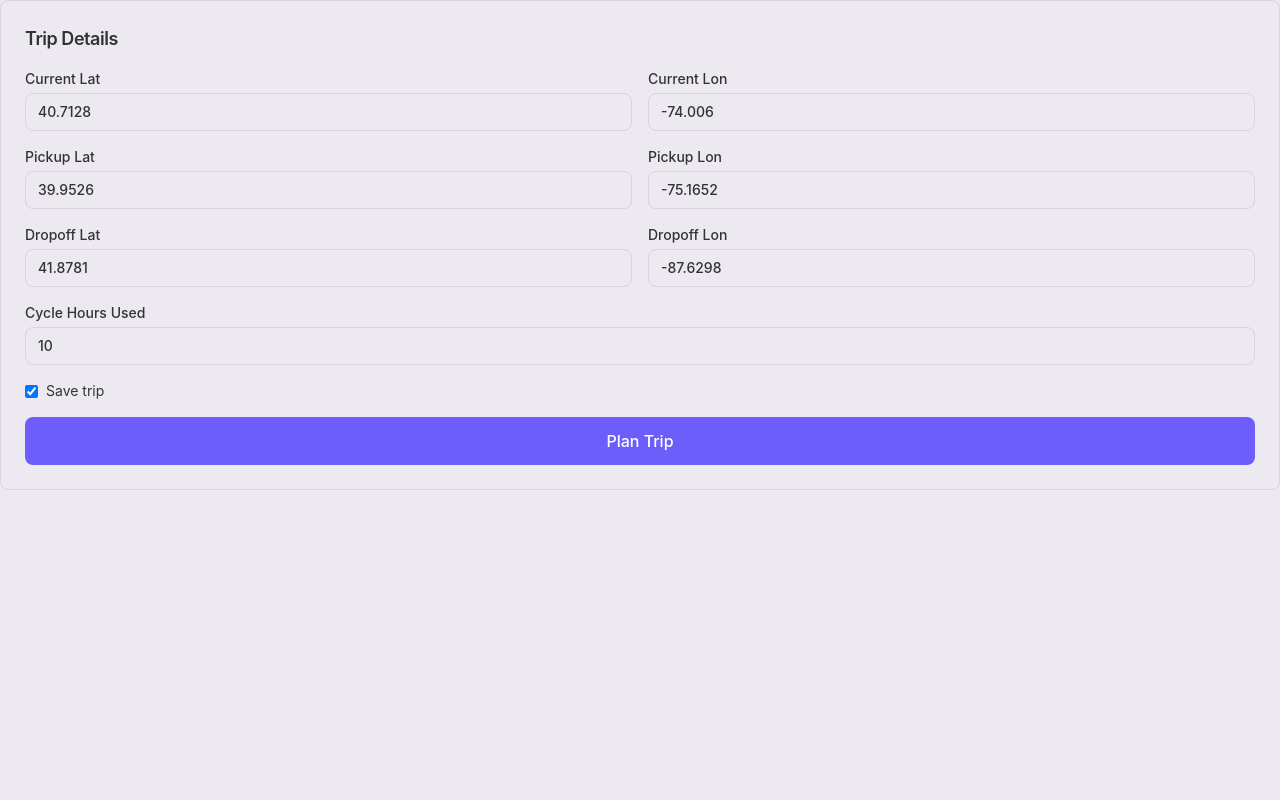
Test: TripForm › displays error message on API failure
Click the button "Plan Trip".
click(640, 441)  # box top-left (25, 417), bottom-right (1255, 465)
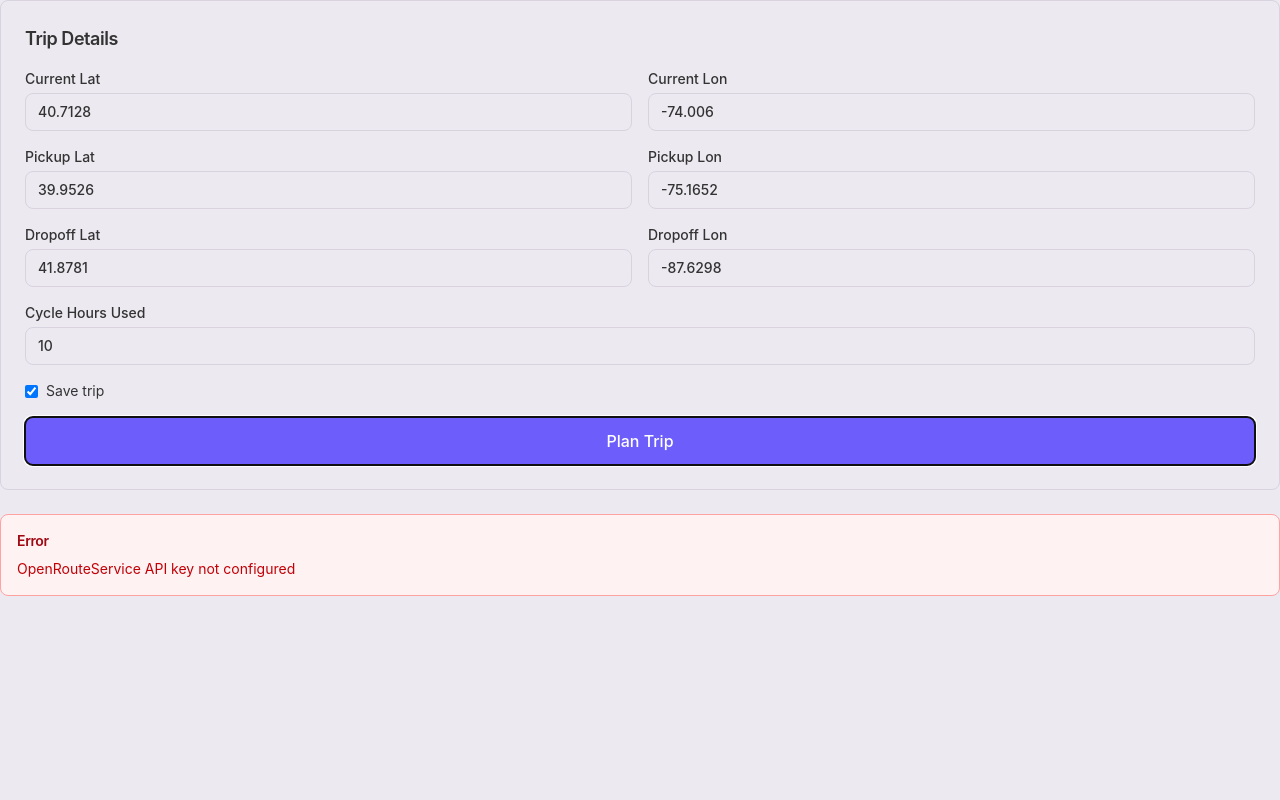
Check: the heading "Error" is shown, box top-left (17, 532), bottom-right (49, 549)
Check: the text "OpenRouteService API key not configured" is shown, box top-left (17, 560), bottom-right (295, 577)
